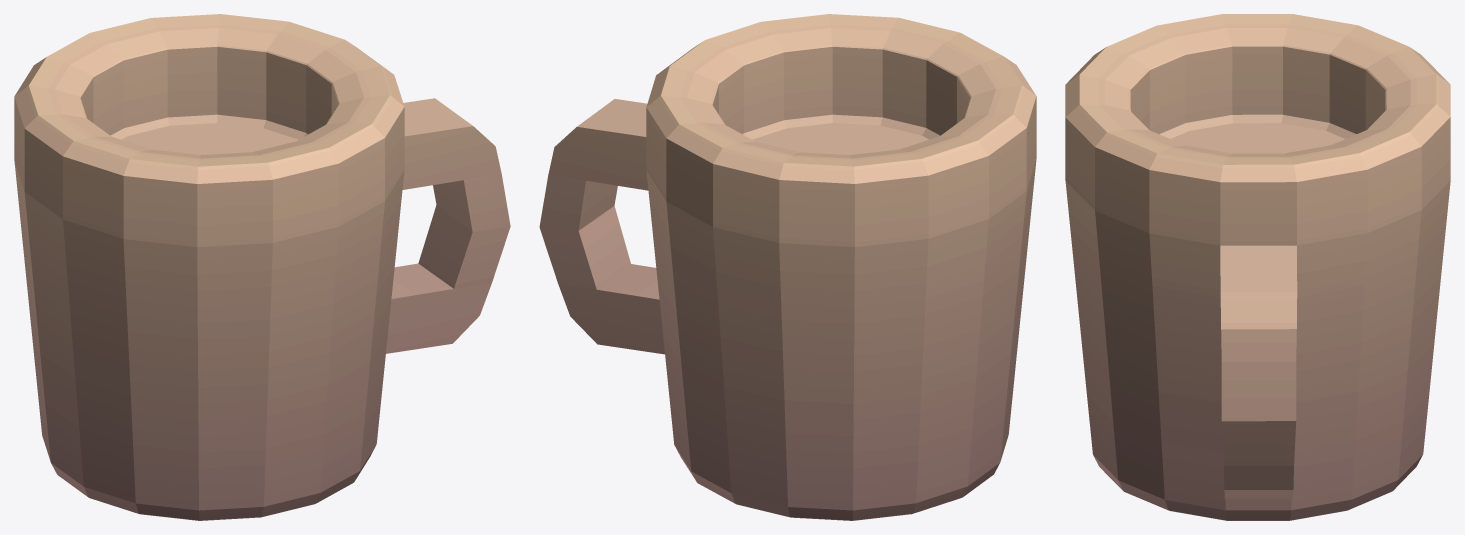
The model's file is cup.fbx.
3 views of the same model, side by side, from view 1: azimuth 30°, elevation 25°; view 2: azimuth 150°, elevation 25°; view 3: azimuth 270°, elevation 25° (orthographic).
Visible parts, largest first — view 1: mug; view 2: mug; view 3: mug.
Part boxes in pixels (left/top/right/bottom): mug: left=14, top=14, right=510, bottom=520; mug: left=539, top=14, right=1036, bottom=520; mug: left=1065, top=14, right=1450, bottom=520.
Size of the model in its own units: 0.1433 by 0.1109 by 0.106.
